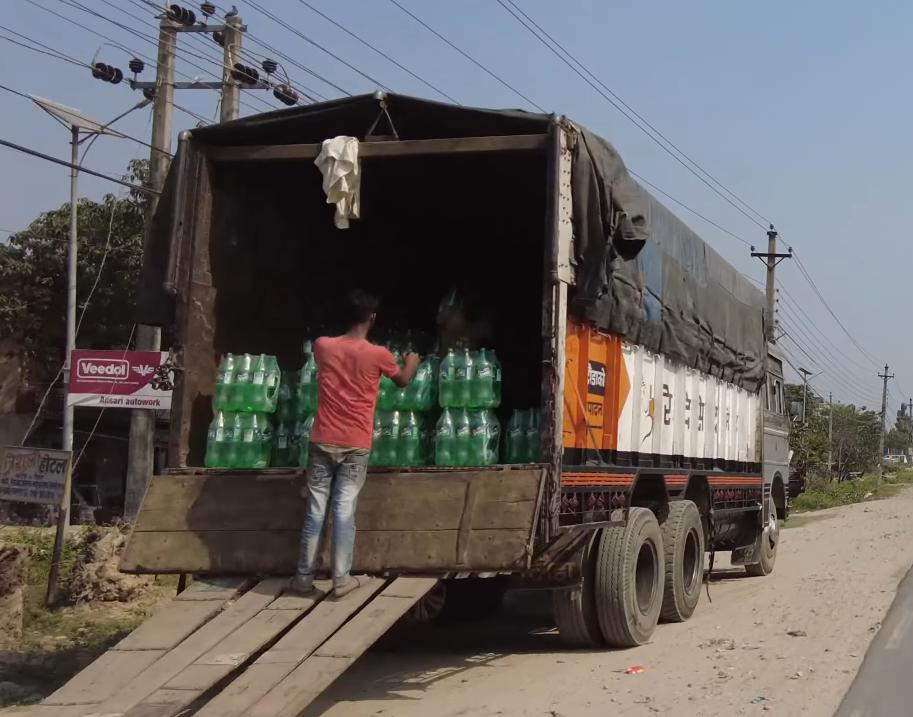truck: (117, 88, 801, 648)
